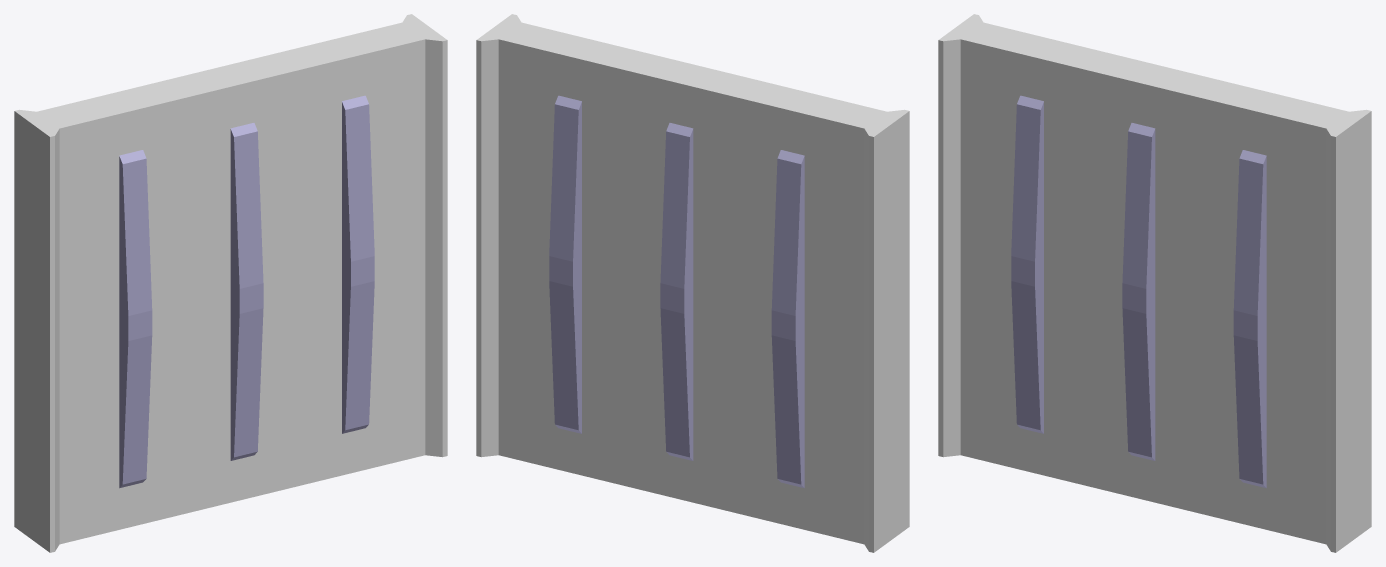
File: wall_with_detail.fbx
The picture shows the model from 3 angles, left to right: view 1: azimuth 30°, elevation 25°; view 2: azimuth 150°, elevation 25°; view 3: azimuth 330°, elevation 25°; orthographic projection.
Parts seen in each view (by area): view 1: pCube171; view 2: pCube171; view 3: pCube171.
Part boxes in pixels (x1,y1,x2,y2): pCube171: (14,14,447,552); pCube171: (476,14,909,552); pCube171: (938,14,1371,552).
Bounding box in the file's own units: 5 × 5 × 0.8978.
